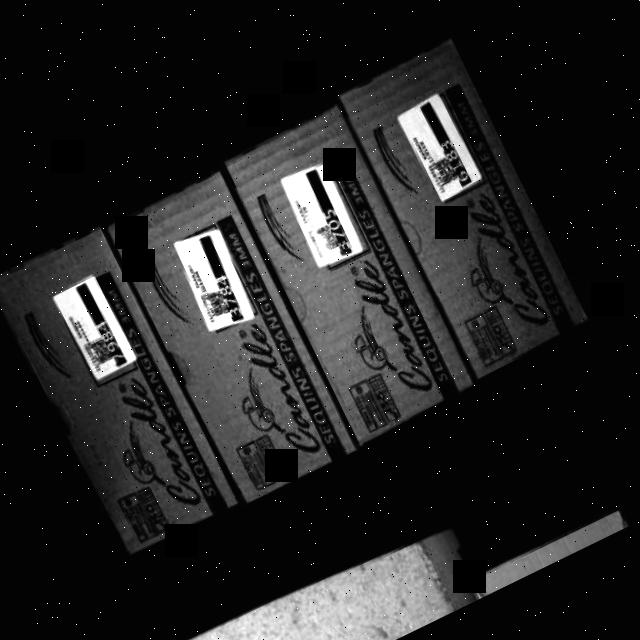box: (342, 40, 592, 377), (227, 106, 477, 443), (0, 226, 240, 558), (111, 176, 352, 500)
